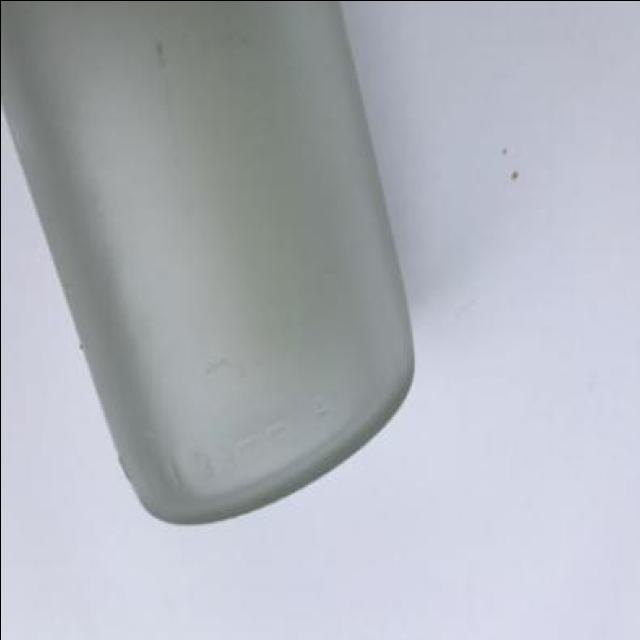kaca: (0, 0, 414, 527)
